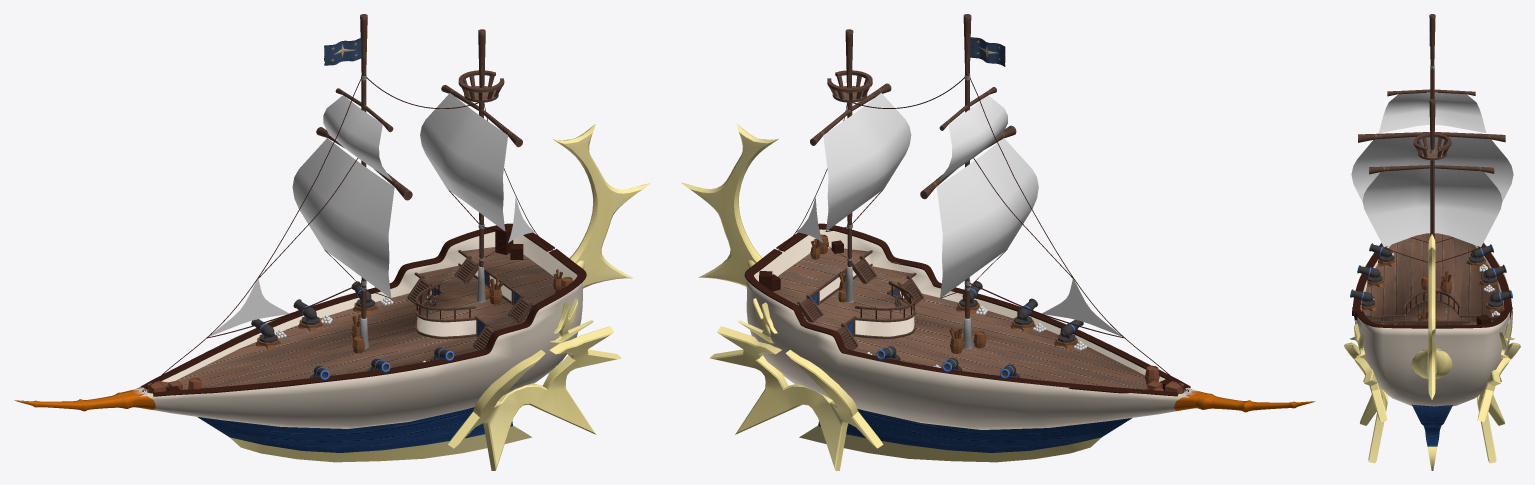
File: Galleon.fbx
The picture shows the model from 3 angles, left to right: view 1: azimuth 30°, elevation 25°; view 2: azimuth 150°, elevation 25°; view 3: azimuth 270°, elevation 25°; orthographic projection. The views are drawn at different scales.
Parts seen in each view (by area): view 1: PH_Boat.026, sails.002, PH_Boat.033, sails.004, PH_Boat.028, NurbsPath.018, PH_Boat.031, trees, sails.003, sails.005, Cube.002, PH_Boat.034 (+1 smaller); view 2: PH_Boat.026, sails.002, PH_Boat.033, sails.004, PH_Boat.028, NurbsPath.018, PH_Boat.031, trees, sails.003, sails.005, Cube.002, Cube.001 (+1 smaller); view 3: PH_Boat.026, sails.004, sails.002, PH_Boat.028, sails.003, trees, PH_Boat.031, NurbsPath.018, PH_Boat.033, PH_Boat.034, Cylinder.002, cannon.005 (+9 smaller).
Part boxes in pixels (x1,y1,x2,y2): PH_Boat.026: (14,231,582,428); sails.002: (292,138,394,298); PH_Boat.033: (197,407,531,462); sails.004: (420,93,507,231); PH_Boat.028: (448,326,621,470); NurbsPath.018: (140,223,586,396); PH_Boat.031: (553,124,650,288); trees: (316,14,522,318); sails.003: (323,95,392,181); sails.005: (209,279,289,336); Cube.002: (454,255,534,322); PH_Boat.034: (549,298,593,343); PH_Boat.026: (746,229,1315,429); sails.002: (936,138,1038,298); PH_Boat.033: (799,408,1131,462); sails.004: (823,93,911,231); PH_Boat.028: (710,326,883,470); NurbsPath.018: (744,223,1190,396); PH_Boat.031: (681,123,778,286); trees: (810,14,1016,318); sails.003: (938,95,1007,181); sails.005: (1042,278,1122,336); Cube.002: (797,255,876,322); Cube.001: (833,275,923,350); PH_Boat.026: (1354,233,1512,406); sails.004: (1362,168,1502,246); sails.002: (1351,136,1513,201); PH_Boat.028: (1344,342,1520,463); sails.003: (1379,93,1486,133); trees: (1358,14,1505,238); PH_Boat.031: (1411,234,1452,399); NurbsPath.018: (1352,243,1512,328); PH_Boat.033: (1412,404,1452,470); PH_Boat.034: (1349,324,1515,358); Cylinder.002: (1413,133,1451,151); cannon.005: (1481,264,1506,283).
Bounding box in the file's own units: 1909 × 1327 × 549.
